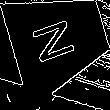N_E: (33, 14, 86, 68)
